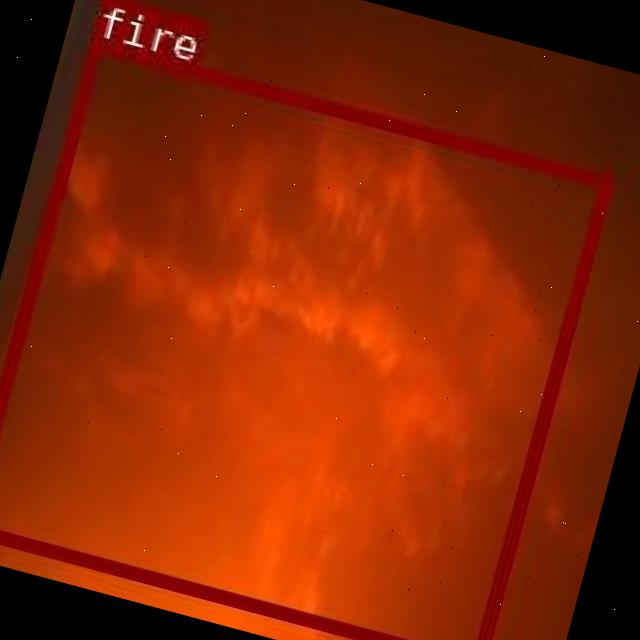fire: (0, 36, 611, 640)
